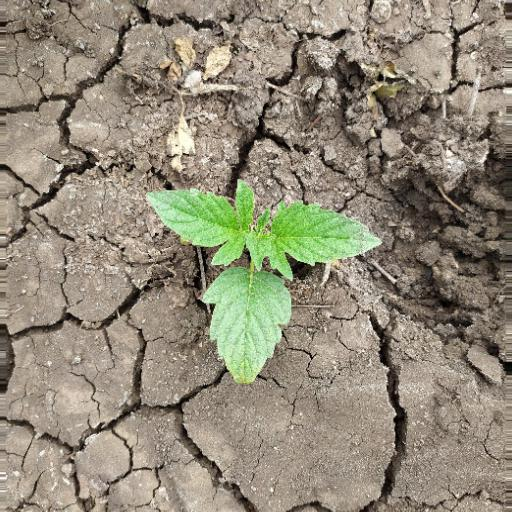crop: (143, 169, 383, 389)
